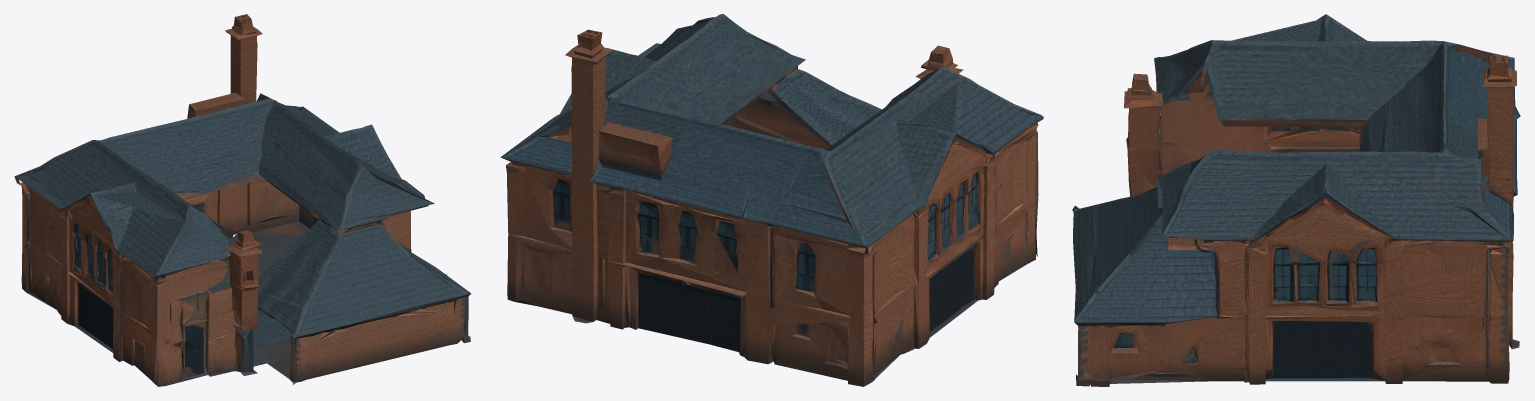
The model's file is factory.glb.
3 renders of one model, left to right at view 1: azimuth 30°, elevation 25°; view 2: azimuth 150°, elevation 25°; view 3: azimuth 270°, elevation 25°, orthographic. The views are drawn at different scales.
Size of the model in its own units: 1.85 by 1.34 by 1.9.
Materials: 1 (1 with a texture image).
